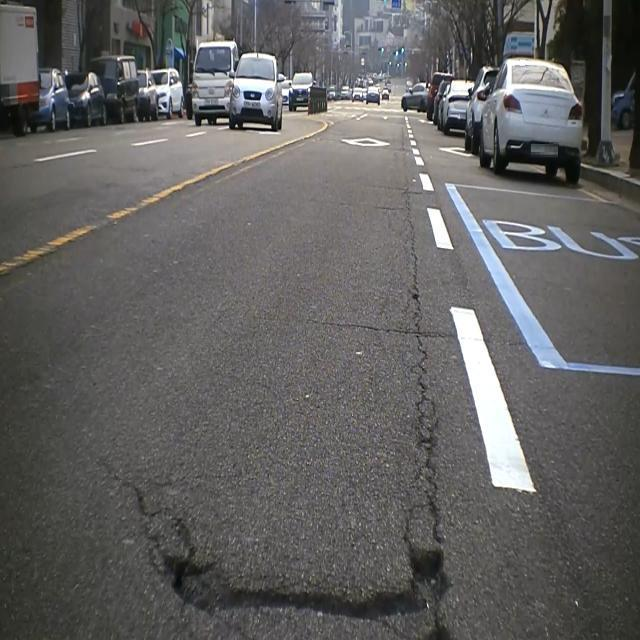Buraco: (130, 486, 457, 640)
